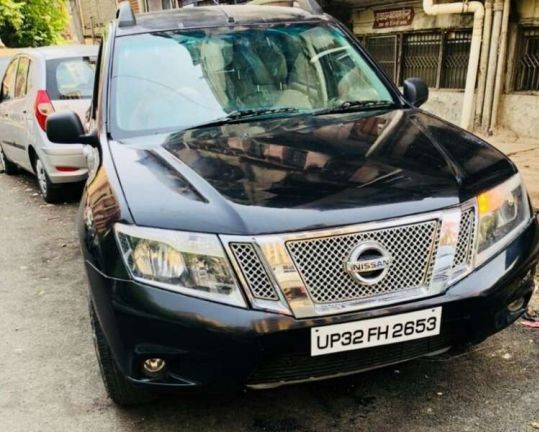UP32FH2653: (311, 304, 442, 357)
